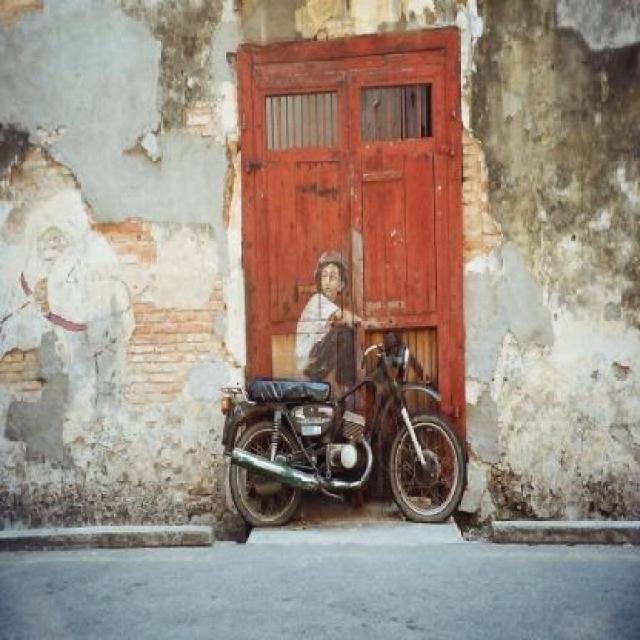Cycle: (187, 320, 491, 528)
